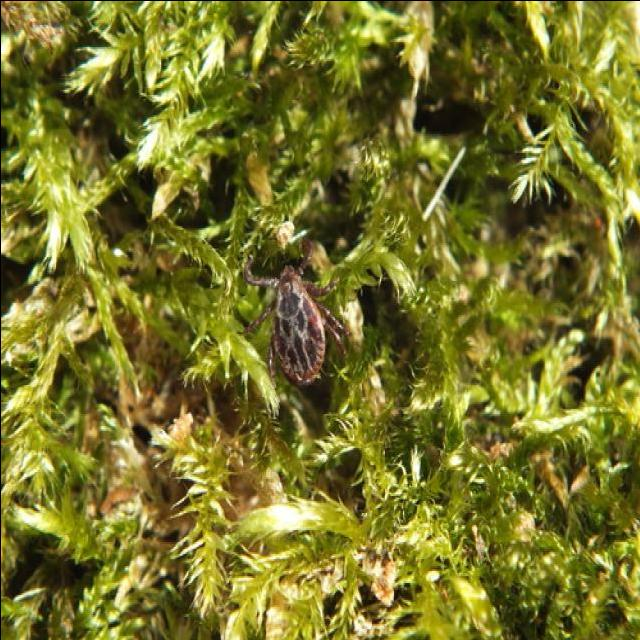Dermacentor Reticulatus-M: (242, 239, 343, 387)
